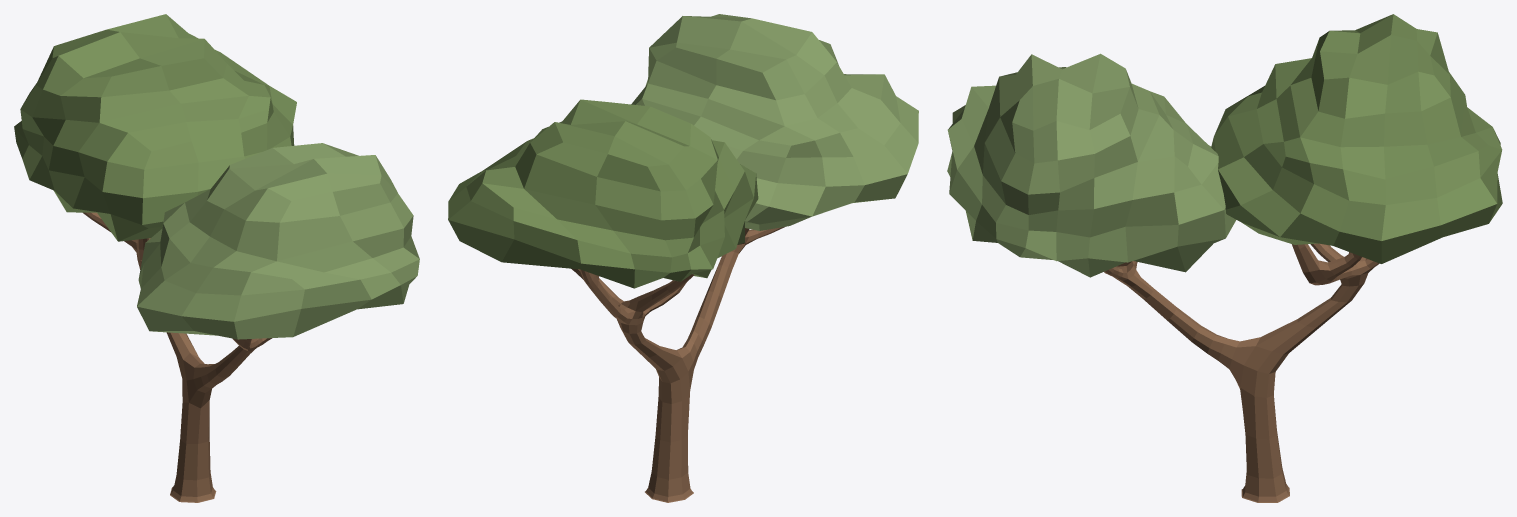
File: potted-tree.glb
3 renders of one model, left to right at view 1: azimuth 30°, elevation 25°; view 2: azimuth 150°, elevation 25°; view 3: azimuth 270°, elevation 25°, orthographic. The views are drawn at different scales.
Visible parts, largest first — view 1: tree-canopy-0, tree-canopy-1, tree-trunk; view 2: tree-canopy-1, tree-canopy-0, tree-trunk; view 3: tree-canopy-1, tree-canopy-0, tree-trunk.
Boxes of the visible parts, bbox=[...] form: tree-canopy-0: bbox=[137, 143, 419, 339]; tree-canopy-1: bbox=[14, 14, 296, 241]; tree-trunk: bbox=[83, 212, 272, 502]; tree-canopy-1: bbox=[448, 99, 758, 288]; tree-canopy-0: bbox=[631, 14, 918, 230]; tree-trunk: bbox=[571, 226, 785, 502]; tree-canopy-1: bbox=[1211, 14, 1502, 263]; tree-canopy-0: bbox=[947, 53, 1236, 277]; tree-trunk: bbox=[1104, 243, 1379, 502].
Bounding box in the file's own units: 0.4417 × 0.58 × 0.6484.
